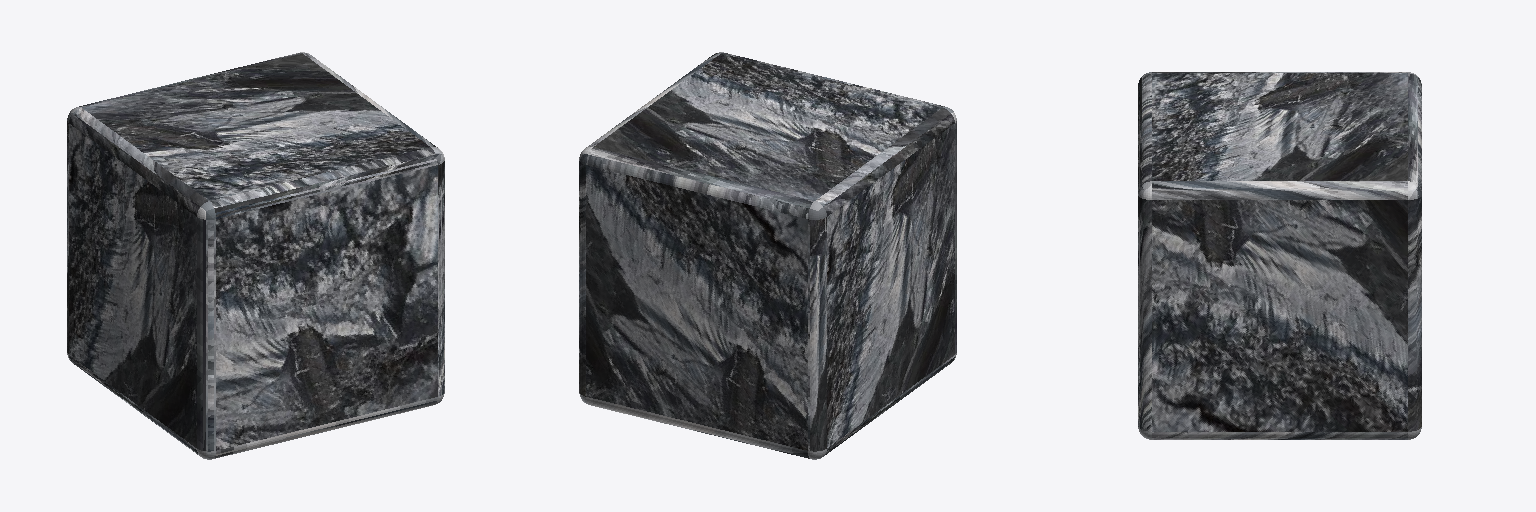
3 views of the same model, side by side, from view 1: azimuth 30°, elevation 25°; view 2: azimuth 150°, elevation 25°; view 3: azimuth 270°, elevation 25° (orthographic).
Visible parts, largest first — view 1: Cube; view 2: Cube; view 3: Cube.
Part boxes in pixels (x1,y1,x2,y2): Cube: (67,52,444,459); Cube: (579,52,956,459); Cube: (1138,72,1421,439).
Bounding box in the file's own units: 2 × 2 × 2.
1 materials, 1 textured.